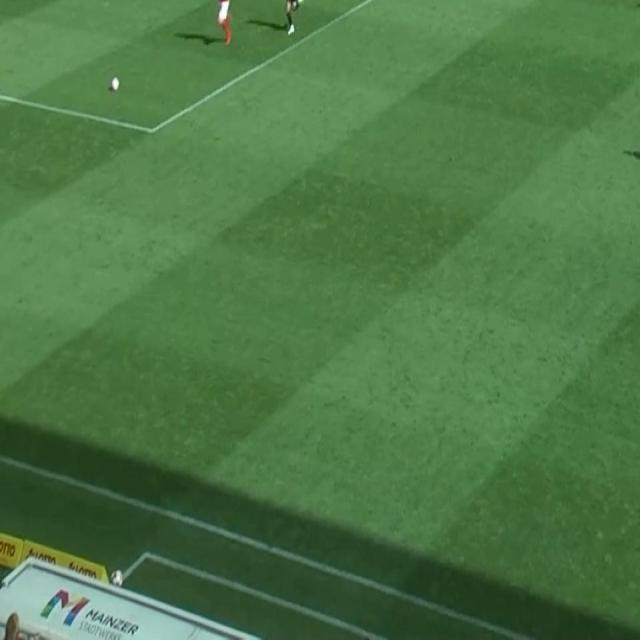ball: (111, 75, 119, 91)
